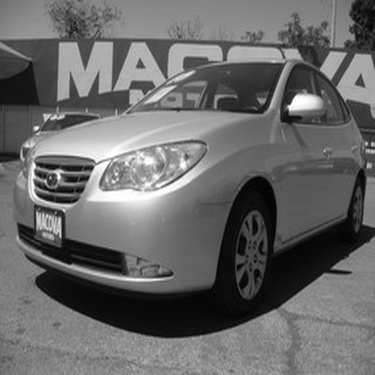car: (10, 51, 370, 317), (17, 100, 102, 160)
